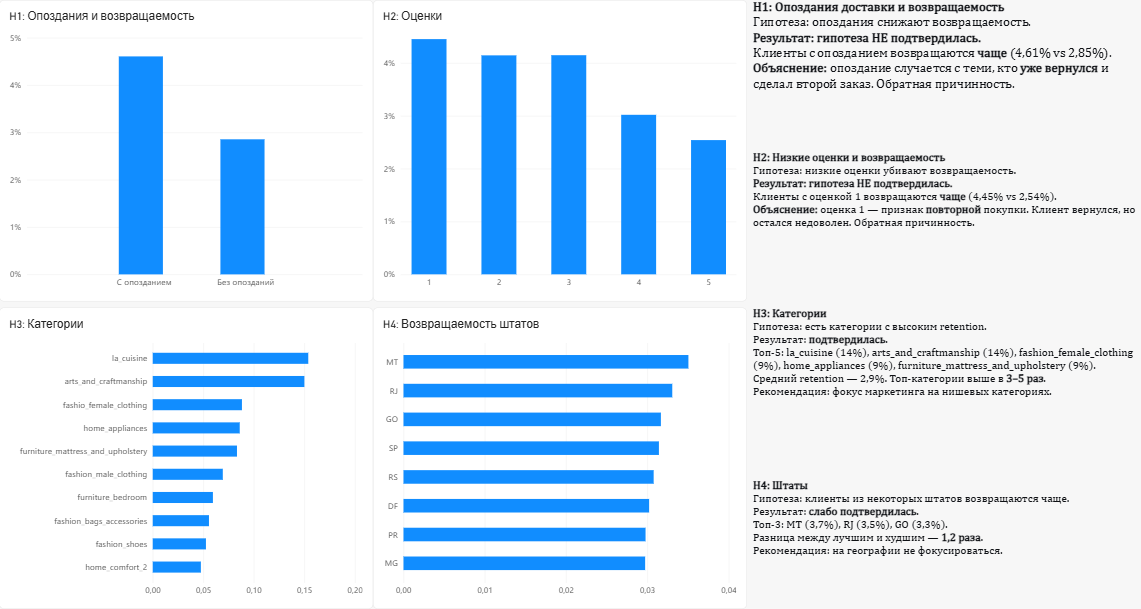

This screenshot's page, from the dashboard's own definition file:
{"tool":"powerbi","page":{"name":"hypotheses","canvas":[1920,1080],"ordinal":2},"visuals":[{"type":"columnChart","title":"H1: Опоздания и возвращаемость","fields":{"Category":["master_for_bi.customer_ever_late_str"],"Y":["master_for_bi.Returning Rate"]},"box":[10.4,0,622.9,502.1],"z":0},{"type":"columnChart","title":"H2: Оценки","fields":{"Category":["master_for_bi.min_review_score"],"Y":["master_for_bi.Returning Rate"]},"box":[633.3,0,623,502],"z":1},{"type":"clusteredBarChart","title":"H3: Категории","fields":{"Category":["master_for_bi.first_category"],"Y":["master_for_bi.Returning Rate"]},"box":[10,512,623,502],"z":2},{"type":"clusteredBarChart","title":"H4: Возвращаемость штатов","fields":{"Category":["master_for_bi.customer_state"],"Y":["master_for_bi.Returning Rate"]},"box":[633,512,623,502],"z":3},{"type":"textbox","box":[1266.7,0,654.2,252.1],"z":4},{"type":"textbox","box":[1266.7,252.1,654.2,250],"z":5},{"type":"textbox","box":[1266.7,512.5,654.2,250],"z":6},{"type":"textbox","box":[1266.7,762.5,654.2,252.1],"z":7}]}

Visuals, with their boxes on the page's 1920x1080 design canvas (x1, y1, x2, y2). These are canvas units, not pixel positions in the 1141x609 screenshot, which may show the page scaled, cropped or inside an application window:
"H1: Опоздания и возвращаемость" columnChart: 10:0:633:502
"H2: Оценки" columnChart: 633:0:1256:502
"H3: Категории" clusteredBarChart: 10:512:633:1014
"H4: Возвращаемость штатов" clusteredBarChart: 633:512:1256:1014
textbox: 1267:0:1921:252
textbox: 1267:252:1921:502
textbox: 1267:512:1921:762
textbox: 1267:762:1921:1015
